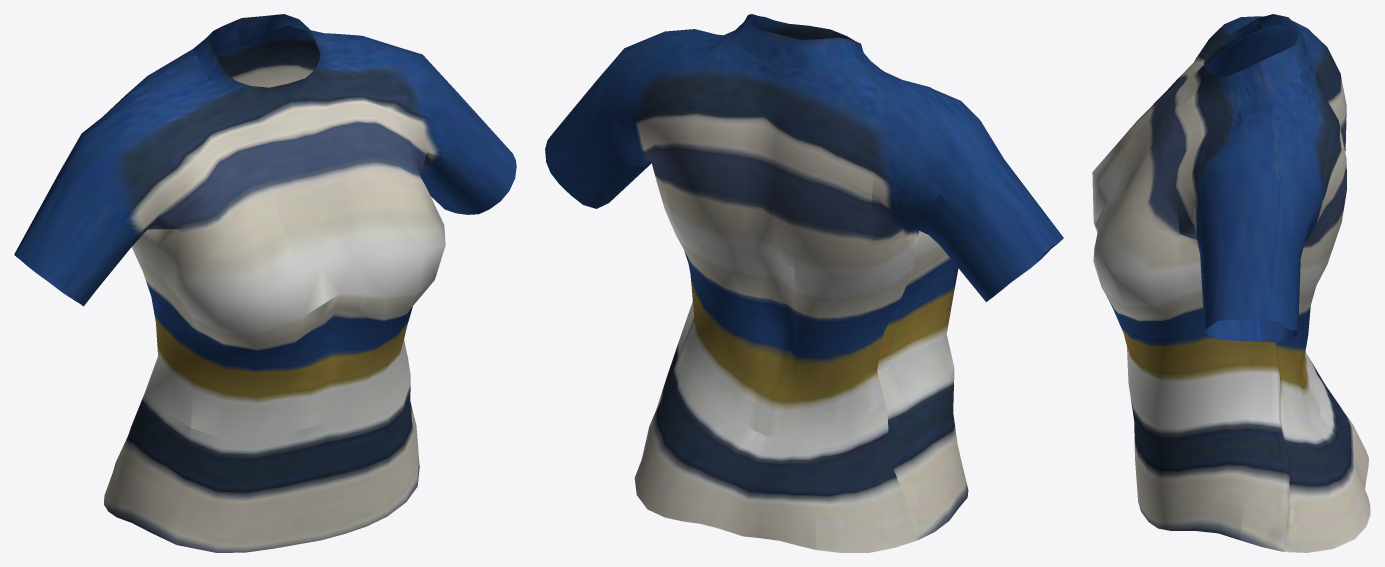
The model's file is TL_XLF.dae.
3 views of the same model, side by side, from view 1: azimuth 30°, elevation 25°; view 2: azimuth 150°, elevation 25°; view 3: azimuth 270°, elevation 25° (orthographic). The views are drawn at different scales.
Visible parts, largest first — view 1: TL; view 2: TL; view 3: TL.
Boxes of the visible parts, <box> form: TL: <box>14,14,516,552</box>; TL: <box>545,14,1063,552</box>; TL: <box>1092,14,1370,552</box>.
Bounding box in the file's own units: 5.92 × 5.43 × 2.98.
